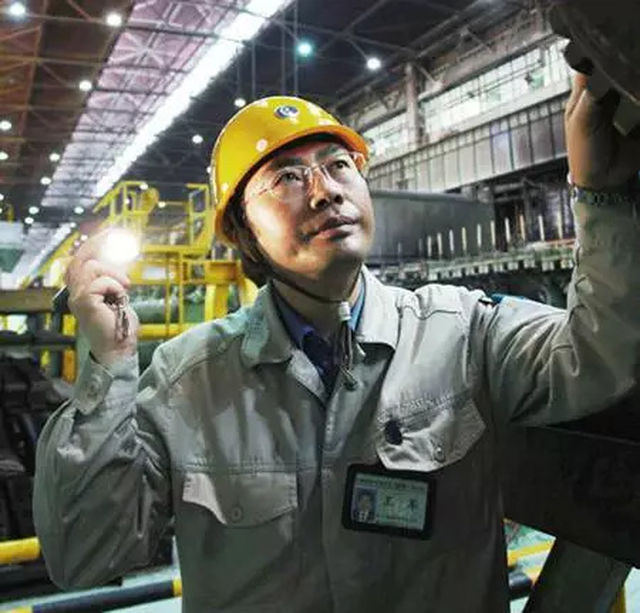safetyhat: (96, 68, 615, 613)
